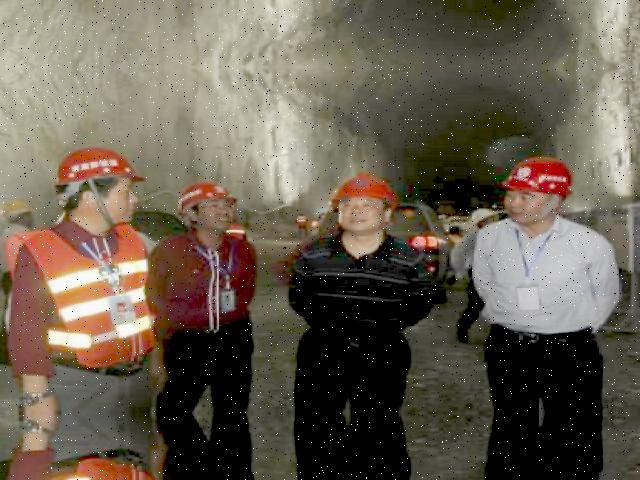Helmet: (49, 143, 154, 191), (496, 152, 580, 206), (328, 166, 402, 207), (175, 178, 246, 217)
